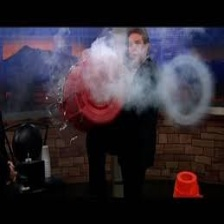smoke: (91, 42, 215, 119)
